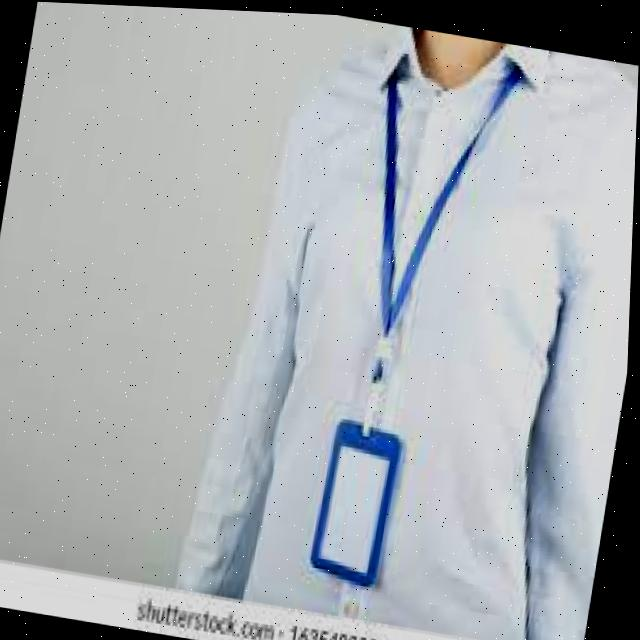id_card: (305, 77, 478, 599)
